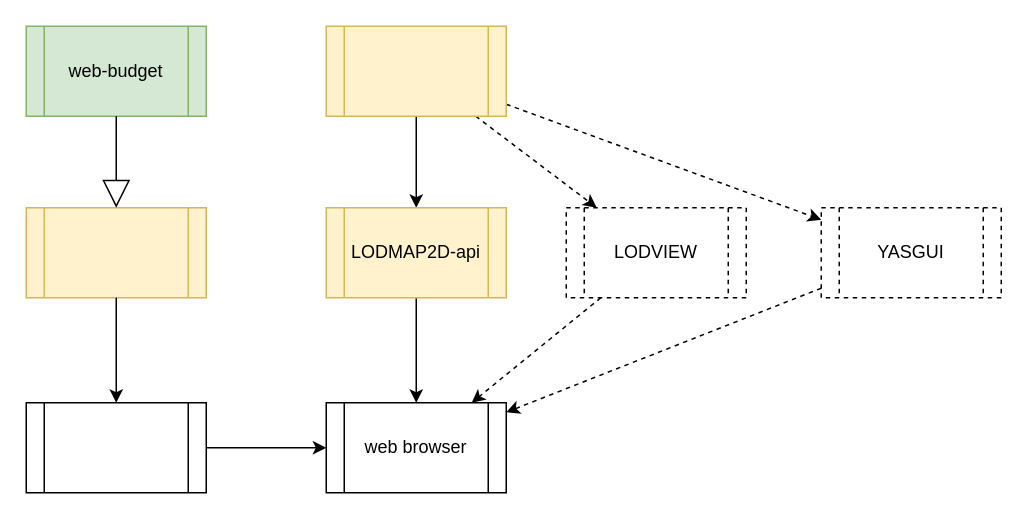
Image size: 1028x519. Some labels were removed from this diagram. Each missing label, with the centre of its shape:
data-budget: [415,70]
LODMAP2D (SPA): [115,252]
web server/CDN: [115,447]
